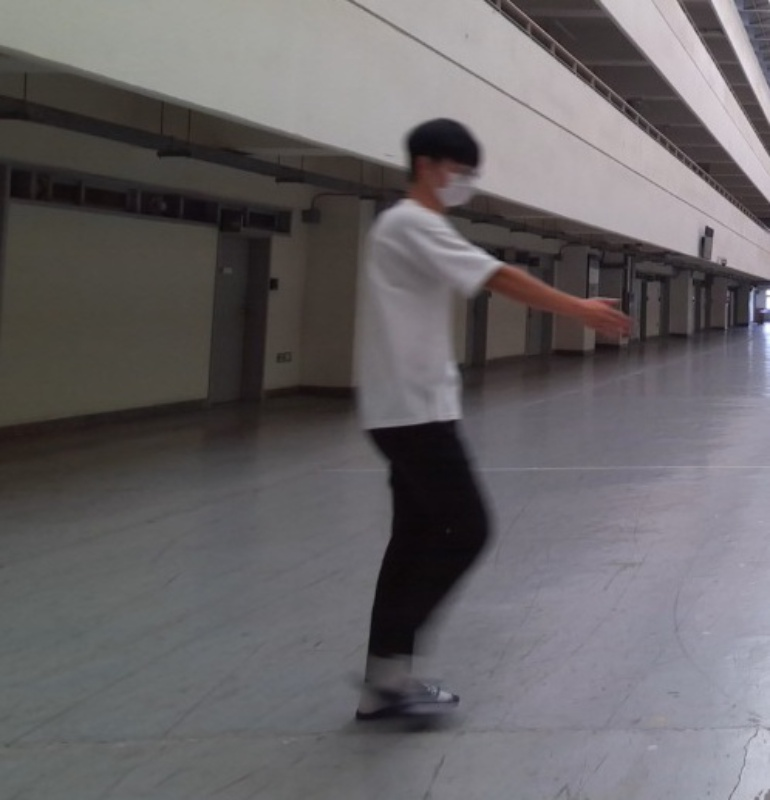person: (350, 117, 639, 732)
